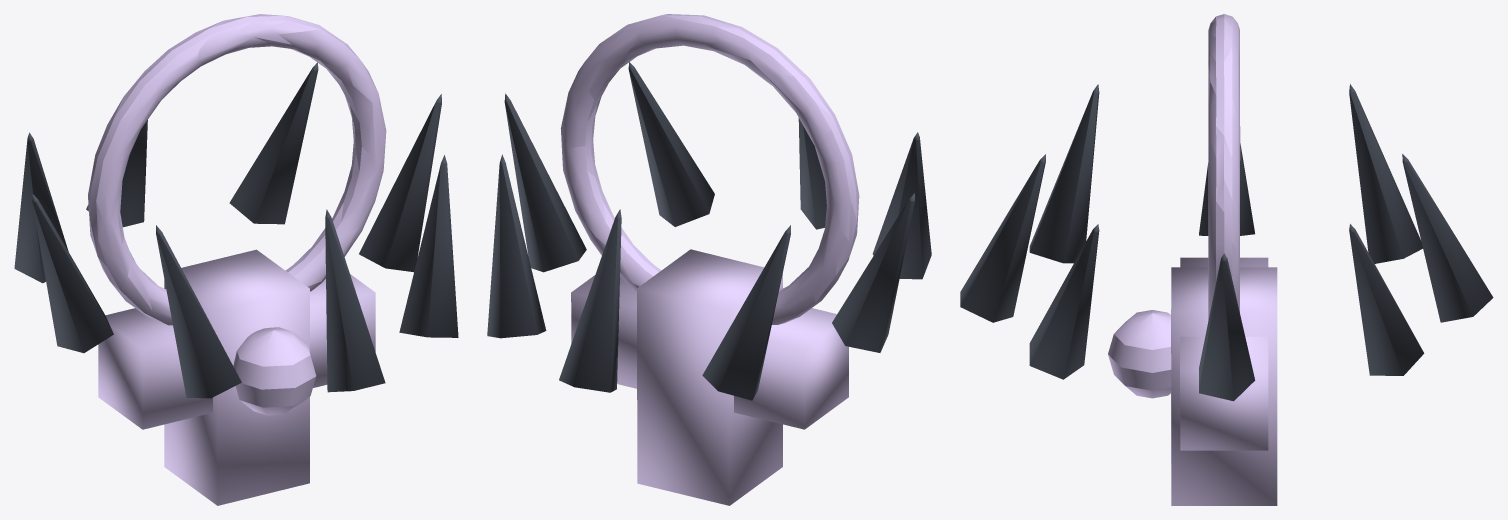
Rendered from SM_Boss_Marktturm_LOD2.fbx.
The picture shows the model from 3 angles, left to right: view 1: azimuth 30°, elevation 25°; view 2: azimuth 150°, elevation 25°; view 3: azimuth 270°, elevation 25°; orthographic projection.
Parts seen in each view (by area): view 1: SM_Boss_Marktturm_LOD2; view 2: SM_Boss_Marktturm_LOD2; view 3: SM_Boss_Marktturm_LOD2.
Part boxes in pixels (x1,y1,x2,y2): SM_Boss_Marktturm_LOD2: (14, 14, 458, 505); SM_Boss_Marktturm_LOD2: (487, 14, 931, 505); SM_Boss_Marktturm_LOD2: (960, 14, 1493, 505).
Size of the model in its own units: 3.74 by 3.98 by 4.24.
